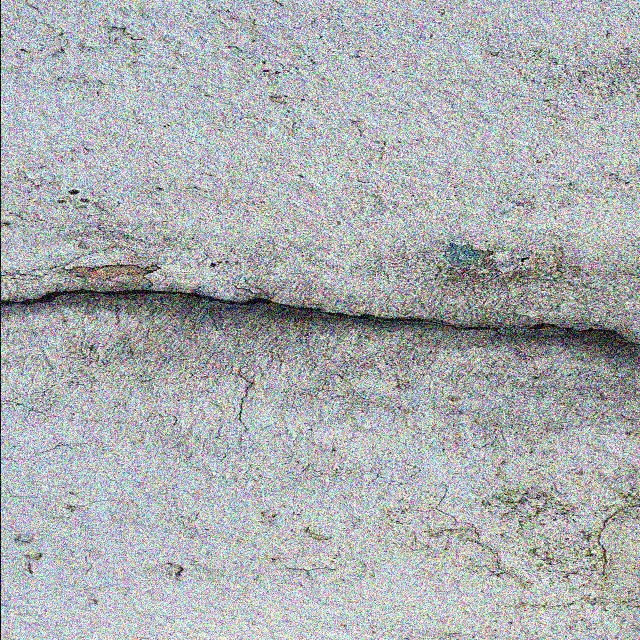SurfaceCrack: (0, 225, 639, 395)
